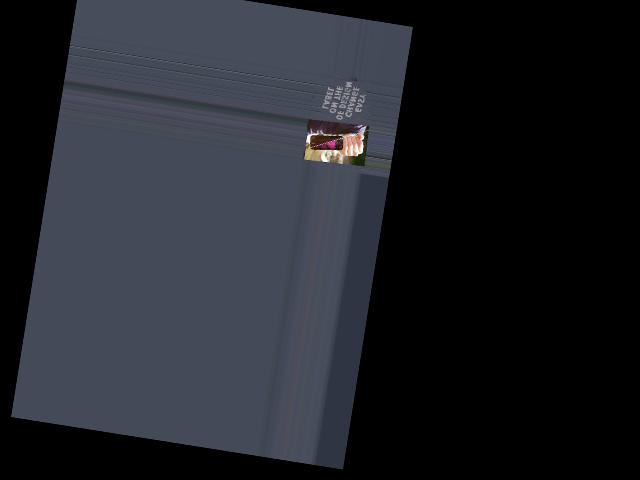beer: (308, 130, 365, 156)
